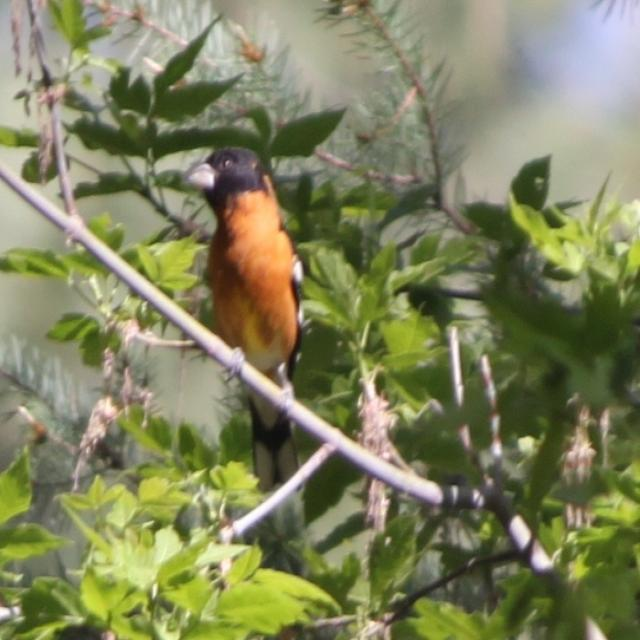bird: (196, 143, 310, 444)
